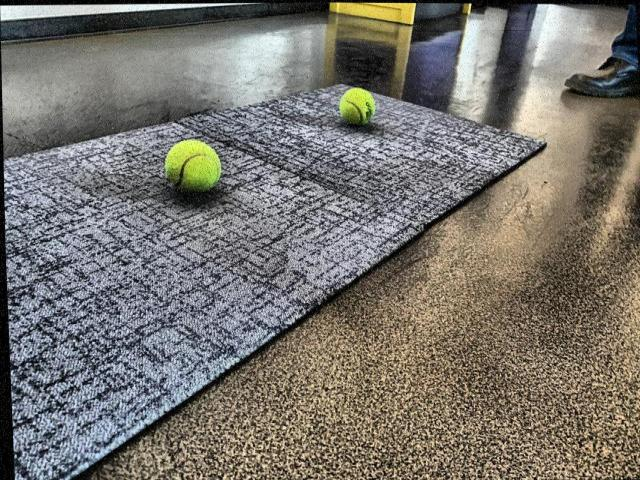tennis-ball: (162, 132, 222, 200), (328, 79, 379, 132)
